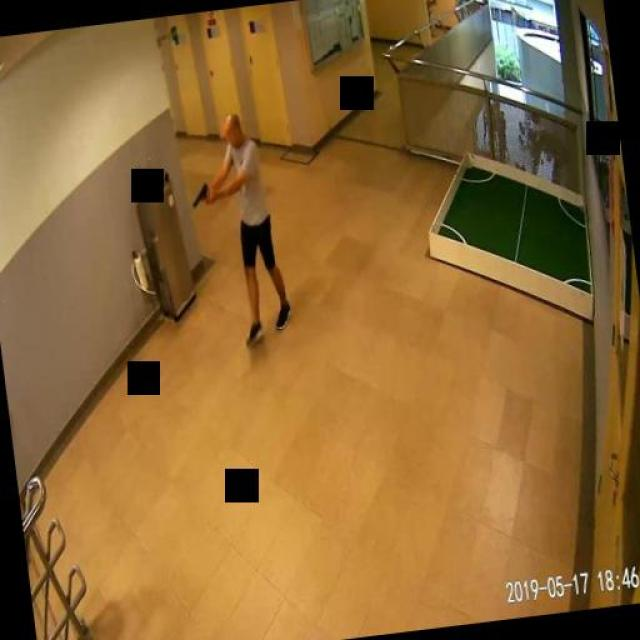gun: (189, 181, 210, 209)
